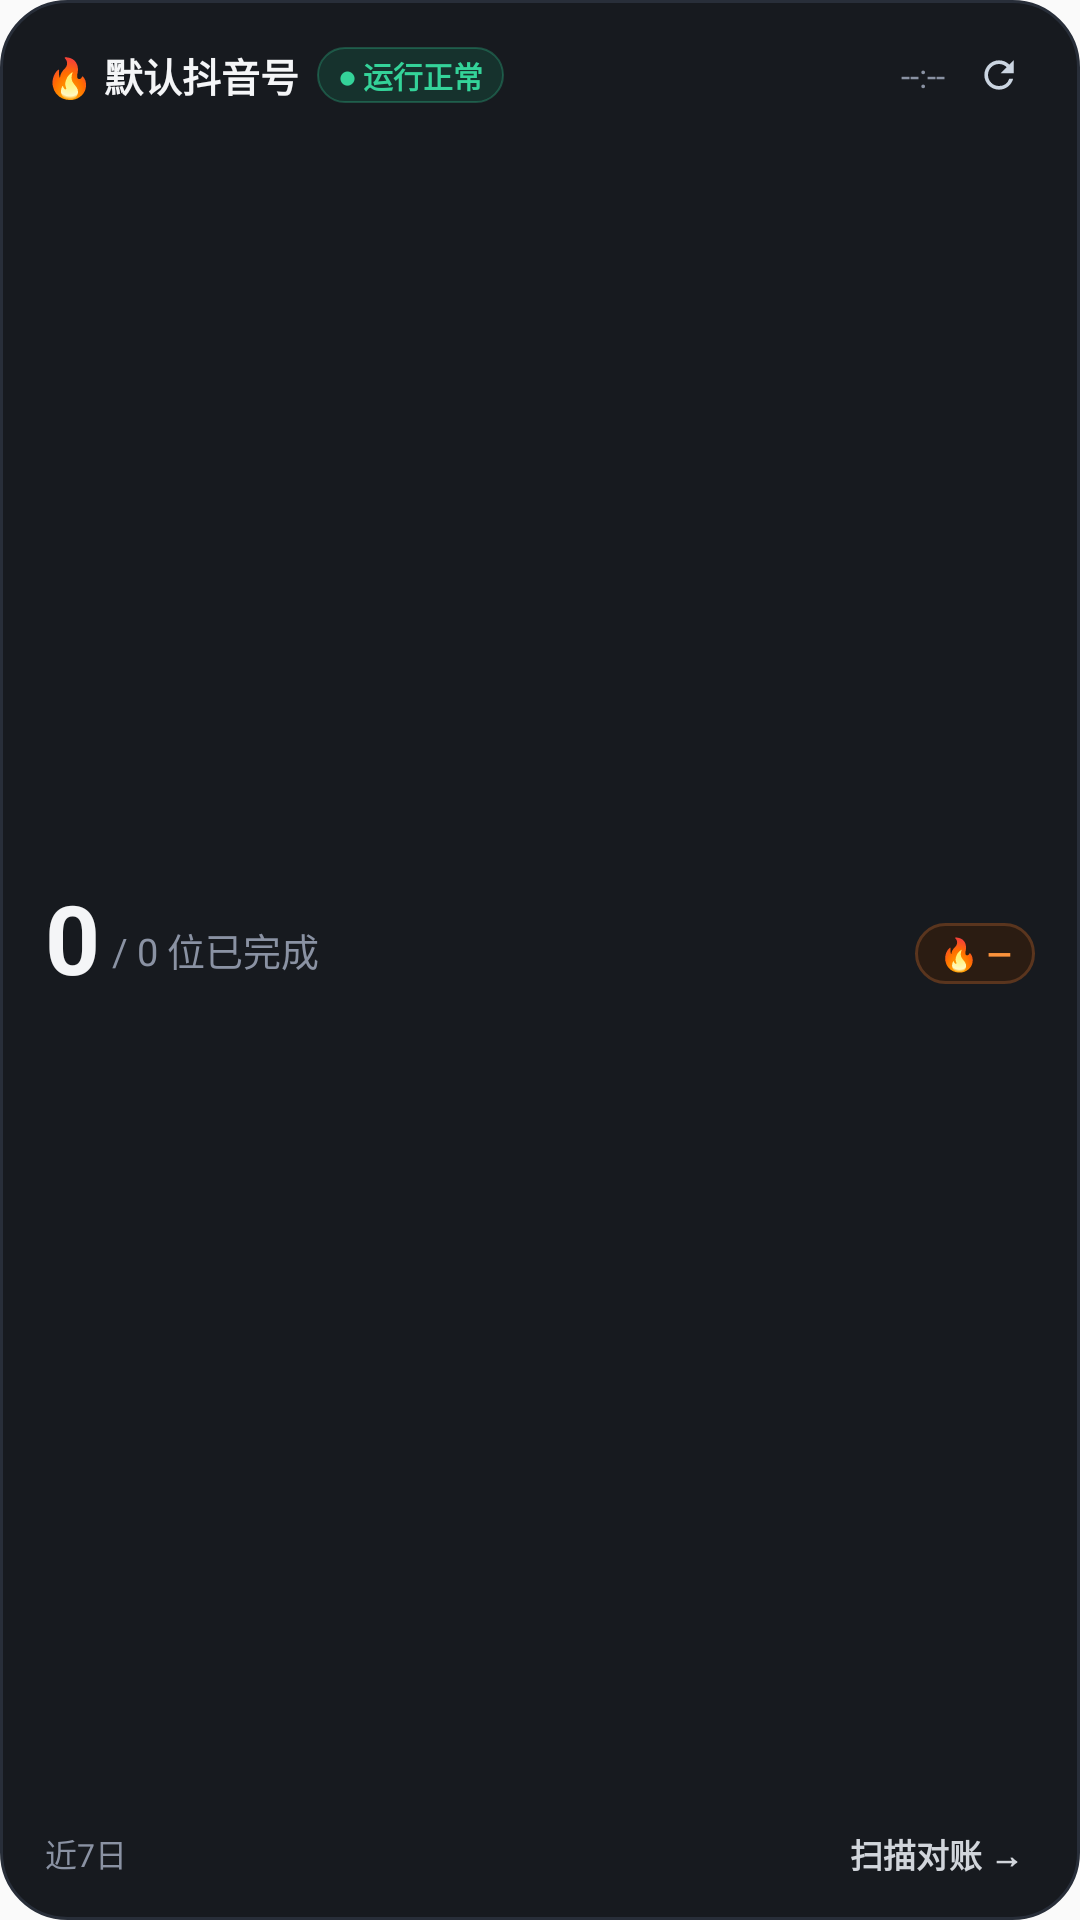

Screen size 1080 × 1920. Icon name, then its box in pixels as (x1, y1, x2, y2):
刷新今日续火状态: (984, 60, 1014, 90)
